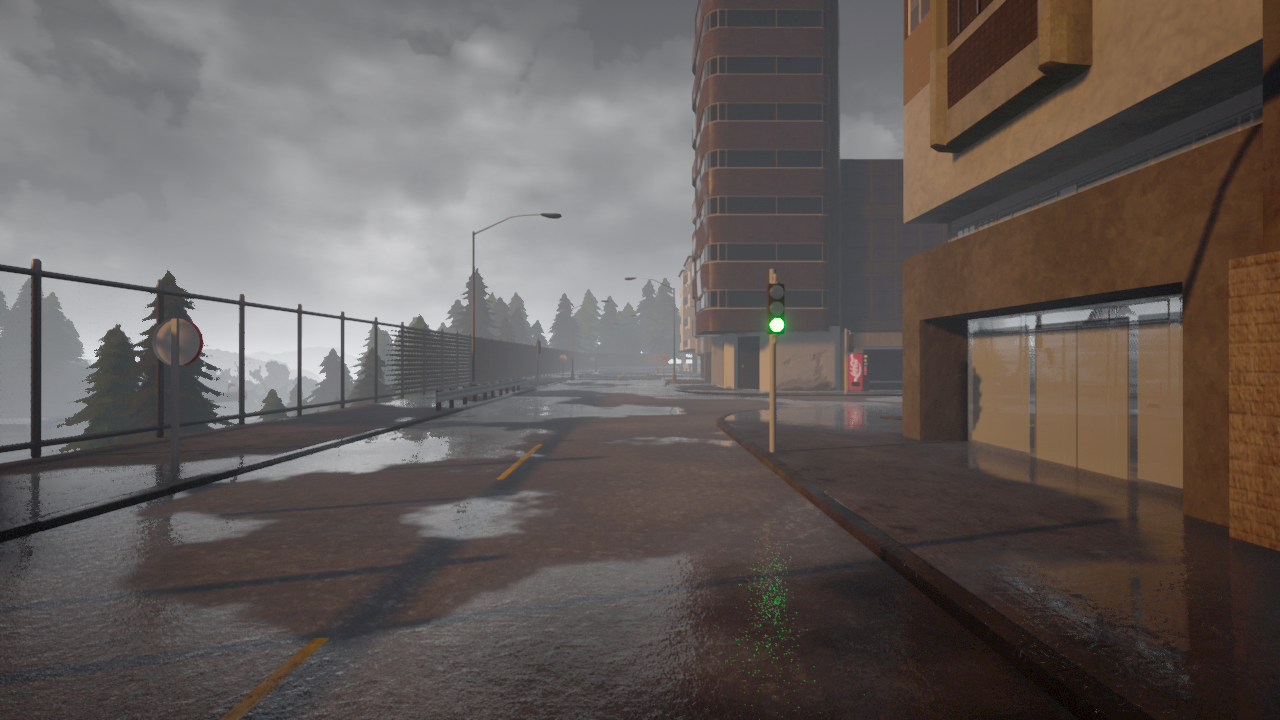green: (768, 282, 787, 333)
